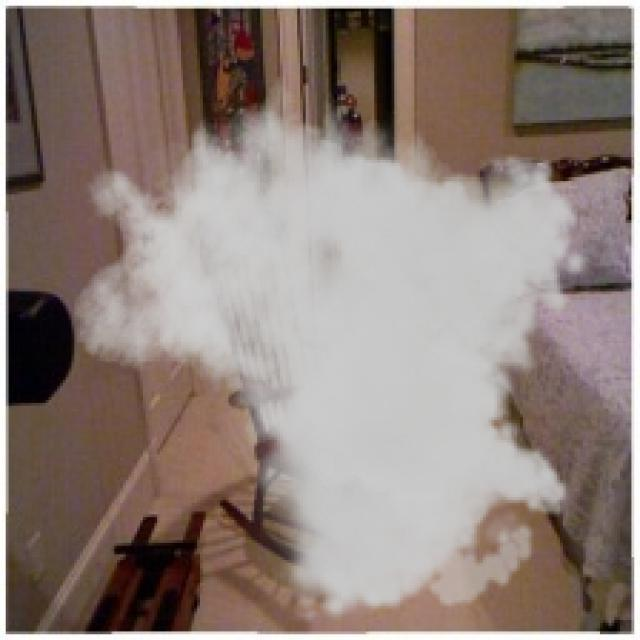Smoke: (71, 57, 592, 623)
